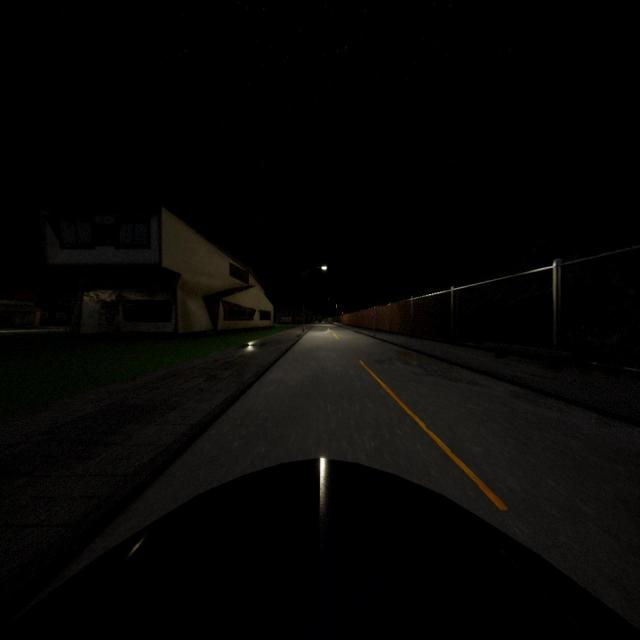Traffic_Signs: (372, 308, 378, 318)
Vehicle: (0, 457, 640, 640), (318, 318, 322, 324)
traffic_light: (342, 312, 343, 317)
